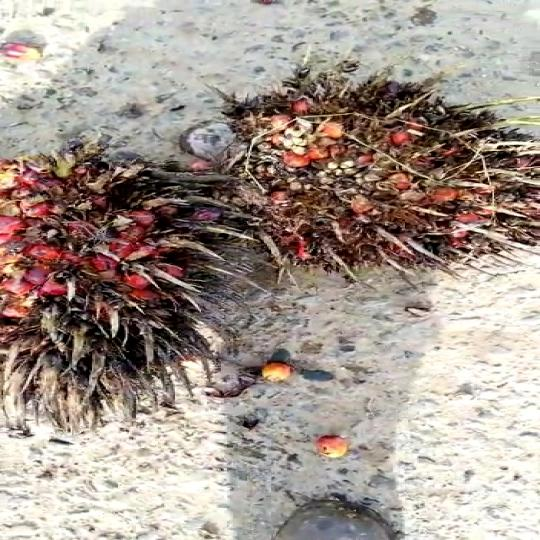terlalu masak: (231, 71, 536, 286), (0, 165, 236, 427)
